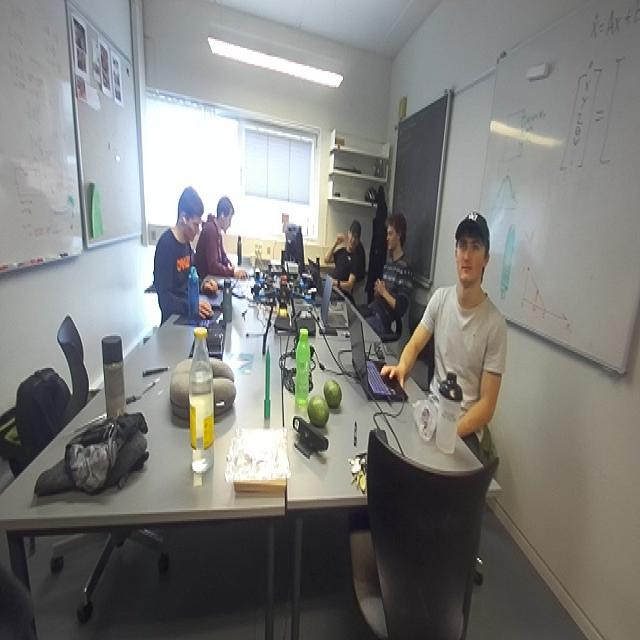probe: (264, 347, 270, 420)
